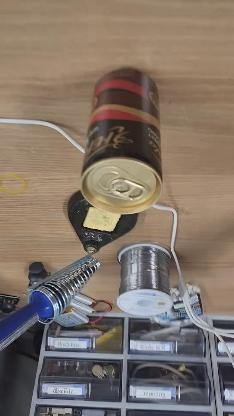Can: (89, 71, 161, 213)
